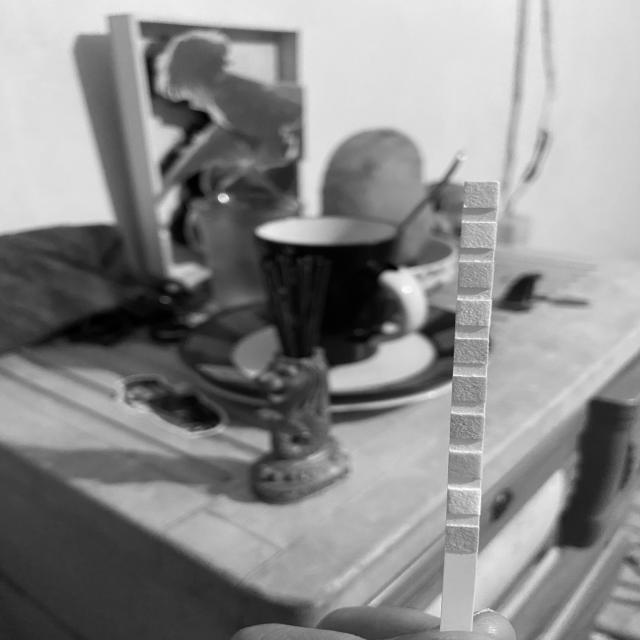Bilirubin: (449, 490, 480, 514)
Blood: (452, 377, 486, 401)
Glucose: (446, 527, 477, 551)
Ketone: (449, 453, 482, 476)
Leukocytes: (464, 183, 496, 207)
Nitrite: (462, 222, 495, 248)
Protein: (457, 300, 490, 326)
SpGravity: (451, 414, 484, 438)
Urobilinogen: (460, 262, 492, 287)
background: (0, 0, 640, 640)
pH: (455, 339, 487, 363)
strip: (440, 182, 499, 632)
